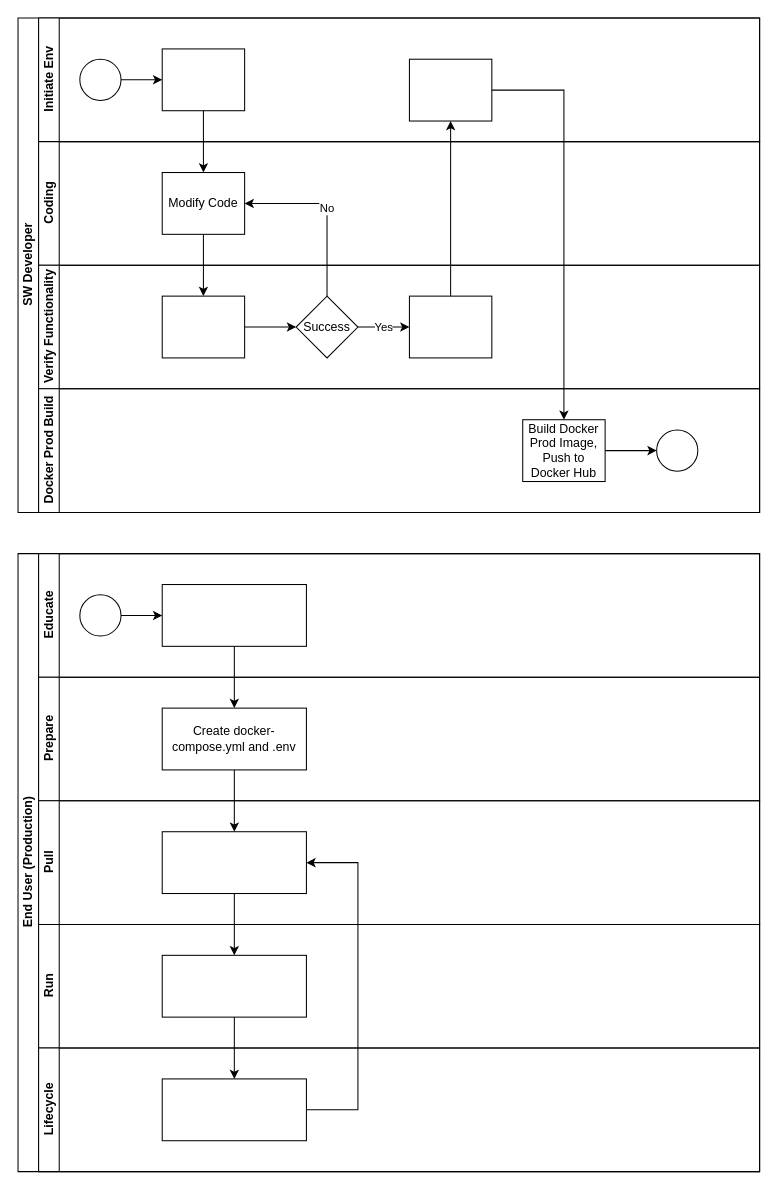
This 778x1190 diagram has some shape labels left out. Here are the shapes that lost their labels. From the top down, the centre of each, then its label:
At [203,79]: "Start Docker Dev environment".
At [450,89]: "Stop Docker Dev environment".
At [203,326]: "Test Functionality".
At [450,326]: "Git Add / Commit / Push to Github Repo".
At [233,614]: "Readme.md on Github".
At [233,862]: "docker compose pull (latest)".
At [233,985]: "docker compose up -d".
At [233,1109]: "docker compose down".
